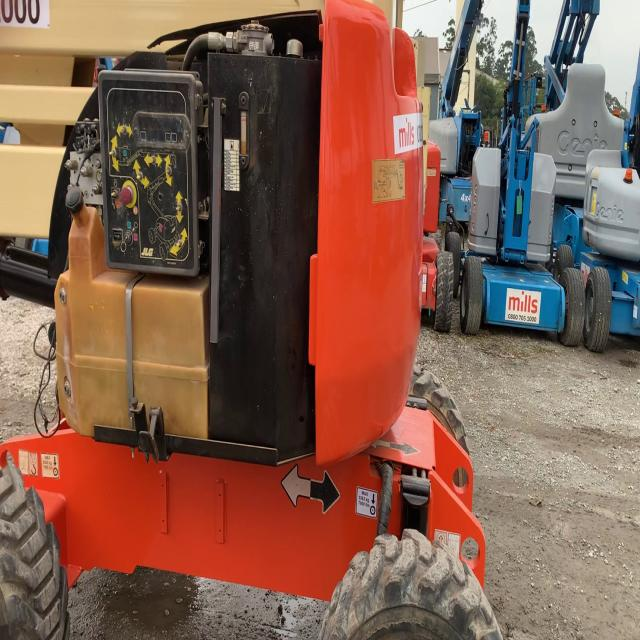Adesivos: (504, 288, 542, 325)
